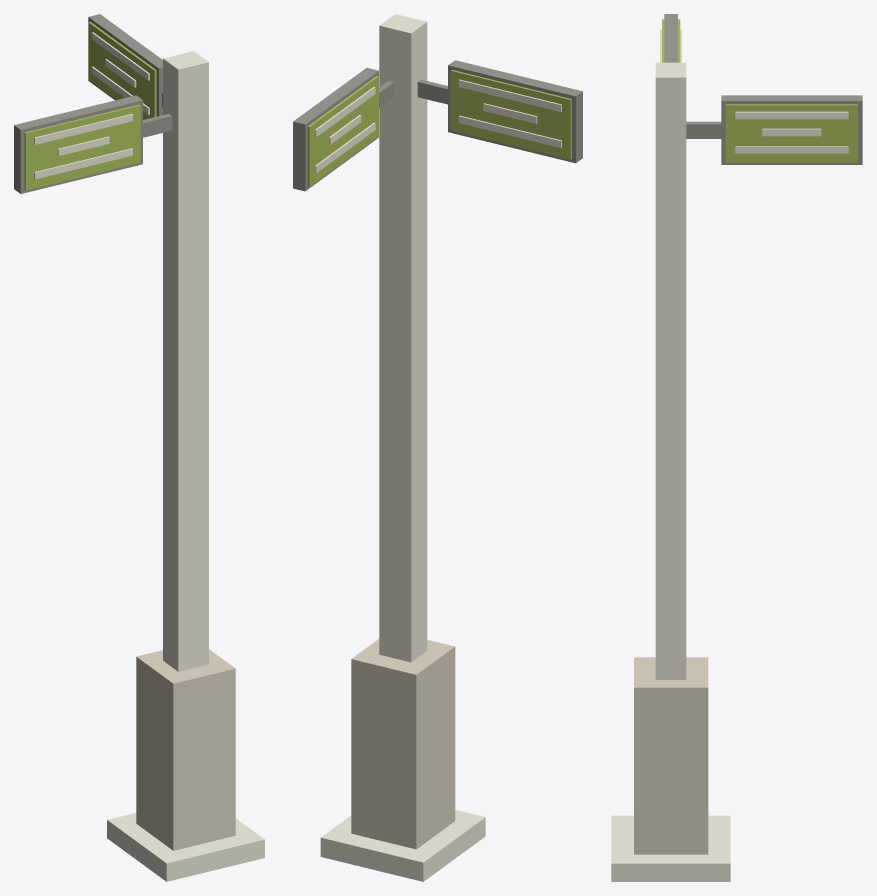
File: props1.fbx
3 views of the same model, side by side, from view 1: azimuth 30°, elevation 25°; view 2: azimuth 150°, elevation 25°; view 3: azimuth 270°, elevation 25° (orthographic). The views are drawn at different scales.
Parts seen in each view (by area): view 1: Cube_2; view 2: Cube_2; view 3: Cube_2.
Boxes of the visible parts, x1,y1,x2,y2 form: Cube_2: (14, 14, 264, 881); Cube_2: (293, 14, 582, 881); Cube_2: (611, 14, 862, 881).
Size of the model in its own units: 107 by 370 by 107.
